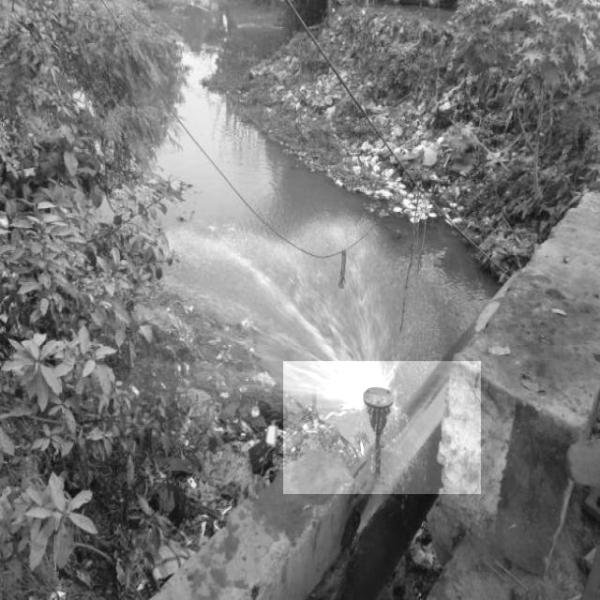water: (284, 362, 480, 494)
